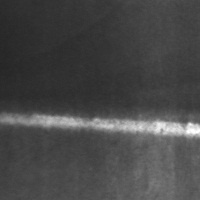scratches: (0, 110, 199, 139)
